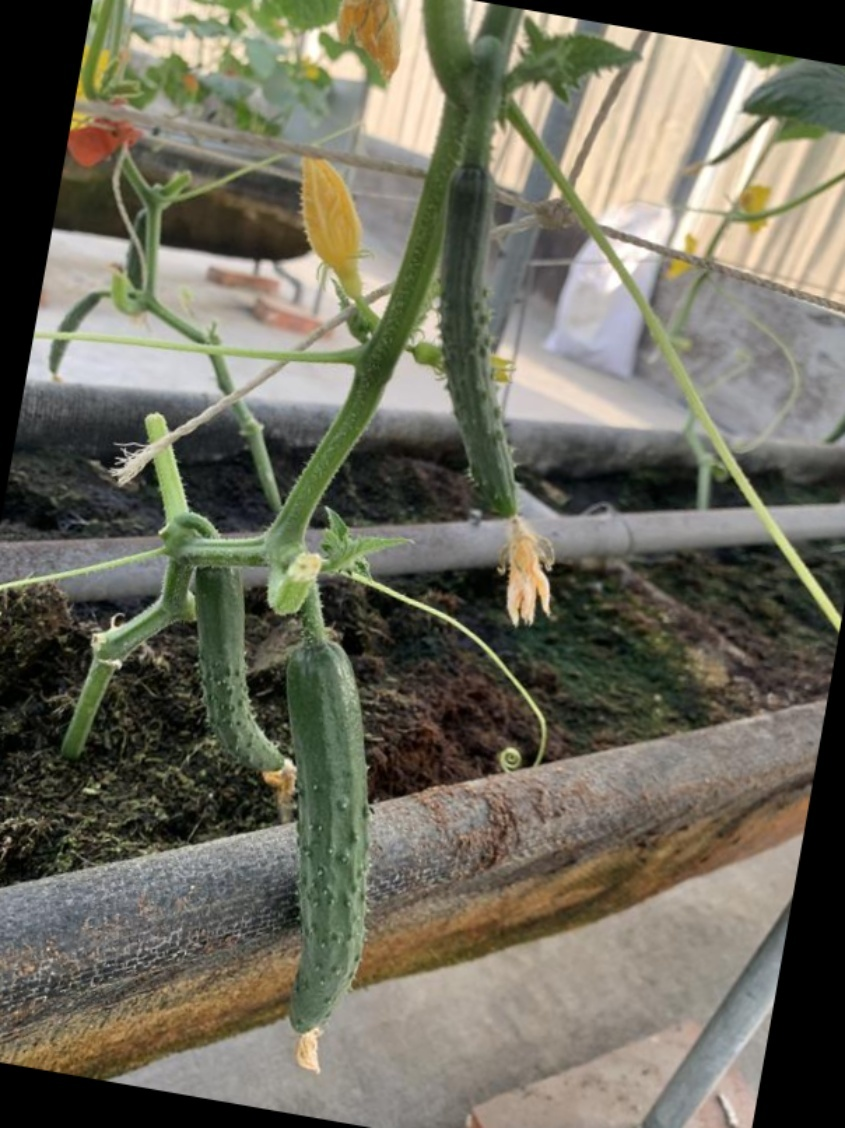growth: (429, 157, 535, 578)
